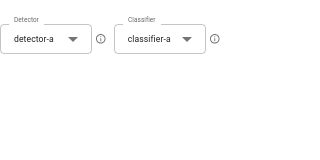
Test: ModelLoader › model list population › shows all classifier options when the classifier dropdown is opened
Click the dropdown labelled "classifier-a" at (149, 39), box [128,34,171,44]
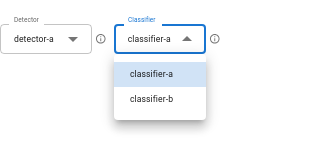
Check: the option "classifier-a" is shown, box [114,62,206,87]
Check: the option "classifier-b" is shown, box [130,94,173,104]
